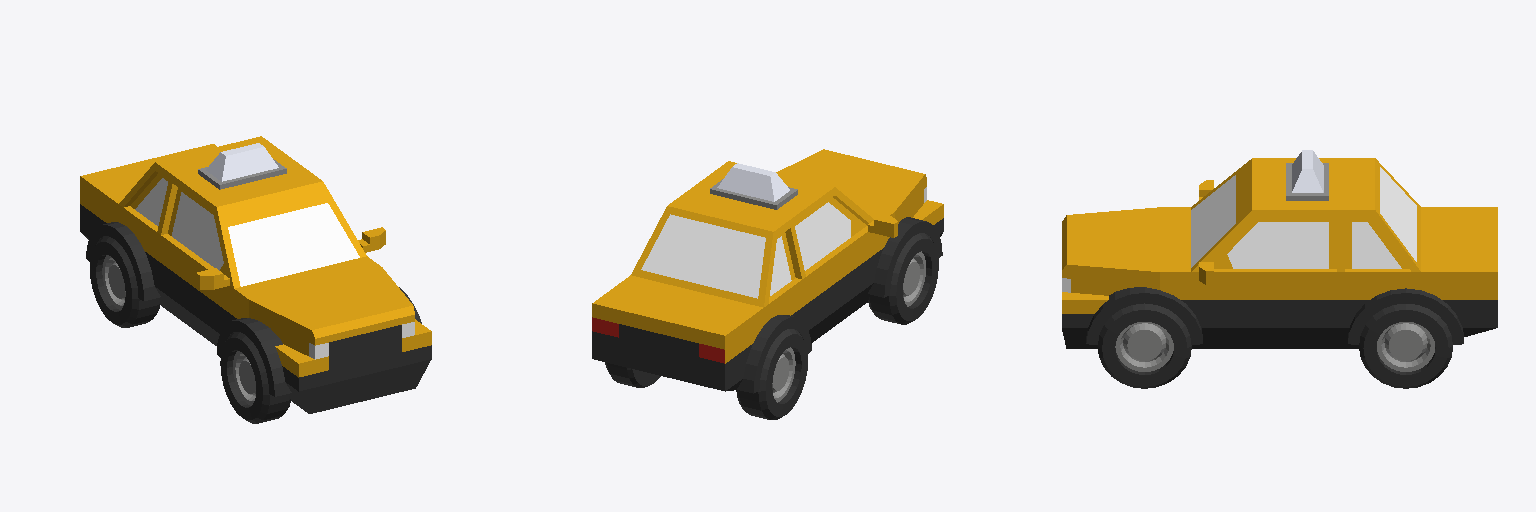
Rendered from taxi.obj.
3 renders of one model, left to right at view 1: azimuth 30°, elevation 25°; view 2: azimuth 150°, elevation 25°; view 3: azimuth 270°, elevation 25°, orthographic.
Parts seen in each view (by area): view 1: mergedBlocks; view 2: mergedBlocks; view 3: mergedBlocks.
Boxes of the visible parts, box(x1,y1,x2,y2) form: mergedBlocks: box(80, 136, 431, 423); mergedBlocks: box(592, 149, 943, 419); mergedBlocks: box(1062, 150, 1497, 388).
Bounding box in the file's own units: 1.4 × 1.38 × 2.84.